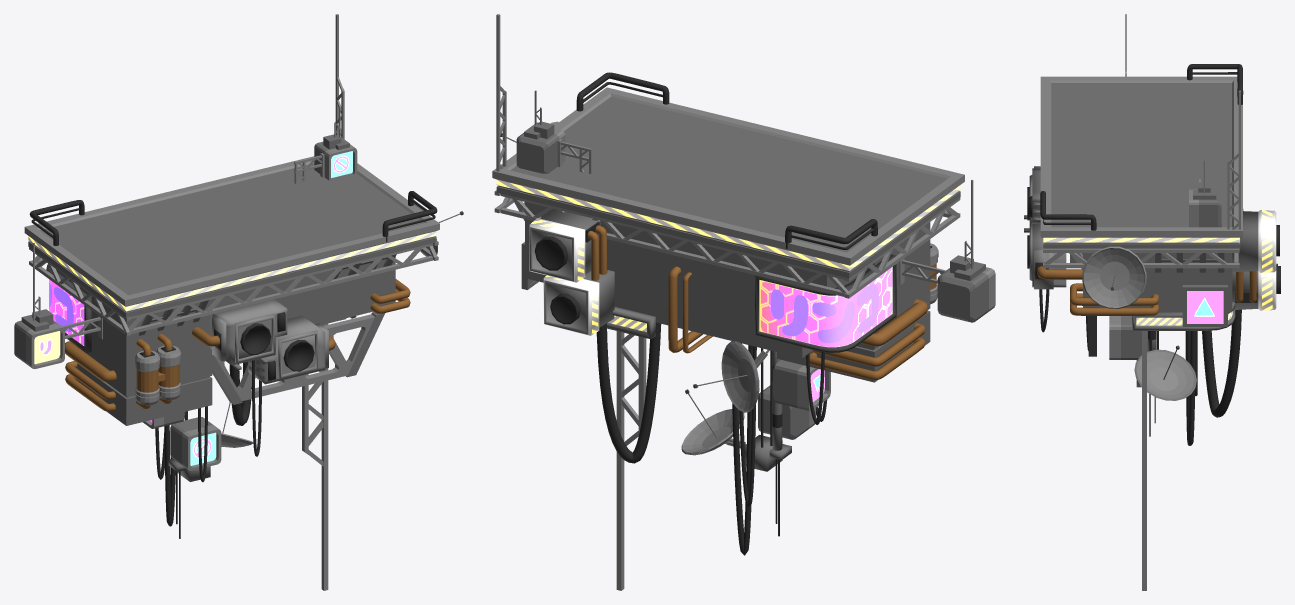
The model's file is Platform_4x2.glb.
3 views of the same model, side by side, from view 1: azimuth 30°, elevation 25°; view 2: azimuth 150°, elevation 25°; view 3: azimuth 270°, elevation 25° (orthographic). The views are drawn at different scales.
Parts seen in each view (by area): view 1: Platform_4x2; view 2: Platform_4x2; view 3: Platform_4x2.
Part boxes in pixels (x1,y1,x2,y2): Platform_4x2: [14, 14, 463, 590]; Platform_4x2: [492, 14, 995, 590]; Platform_4x2: [1024, 14, 1280, 590].
Bounding box in the file's own units: 5.32 × 6.16 × 2.71.
